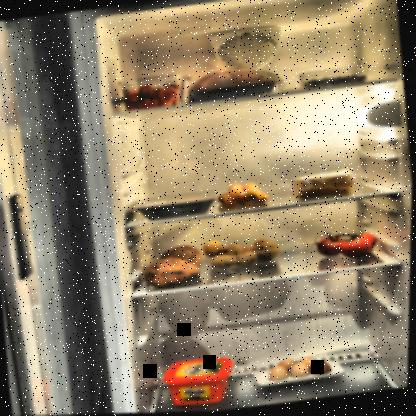blueberries: (304, 71, 370, 92)
butter: (159, 354, 239, 410)
carrot: (214, 179, 272, 211)
chicken: (184, 61, 279, 108)
eggs: (266, 353, 336, 385)
potato: (200, 231, 284, 273)
strawberries: (118, 79, 183, 115)
sweet_potato: (143, 243, 205, 292)
tomato: (315, 225, 382, 264)
